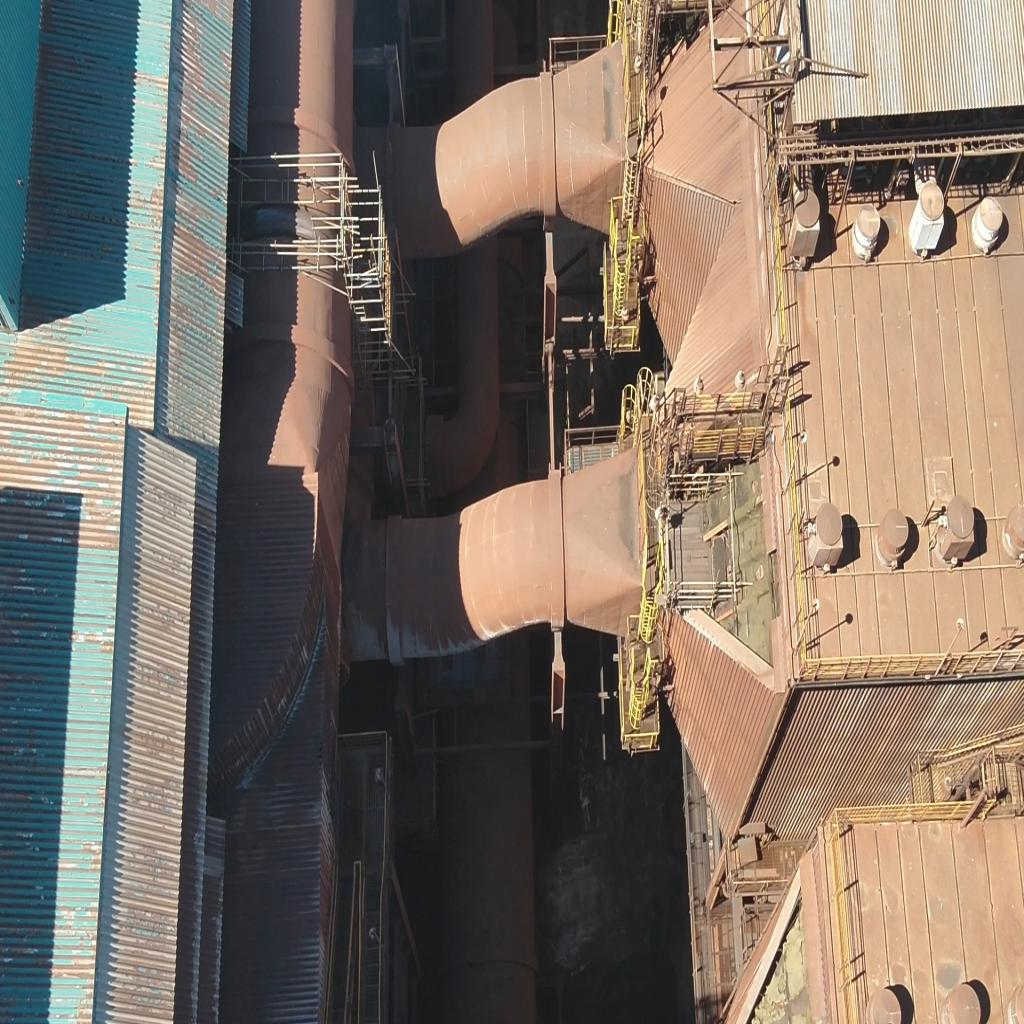Failures: (697, 462, 782, 658)
